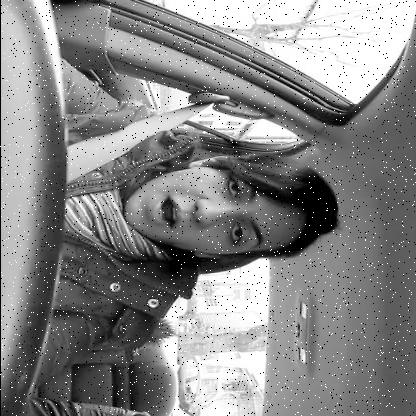seatbelt: (57, 102, 361, 309)
